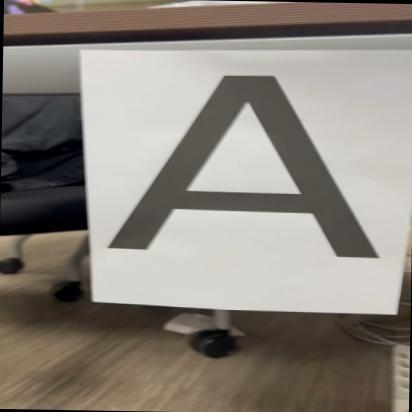seat: (102, 60, 396, 272)
